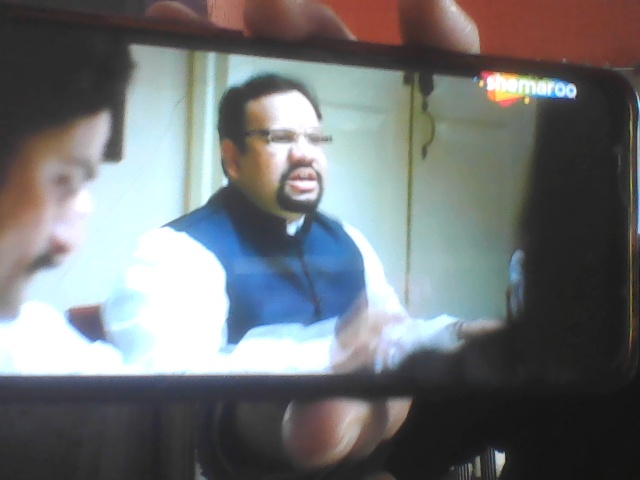fake: (222, 65, 334, 224)
